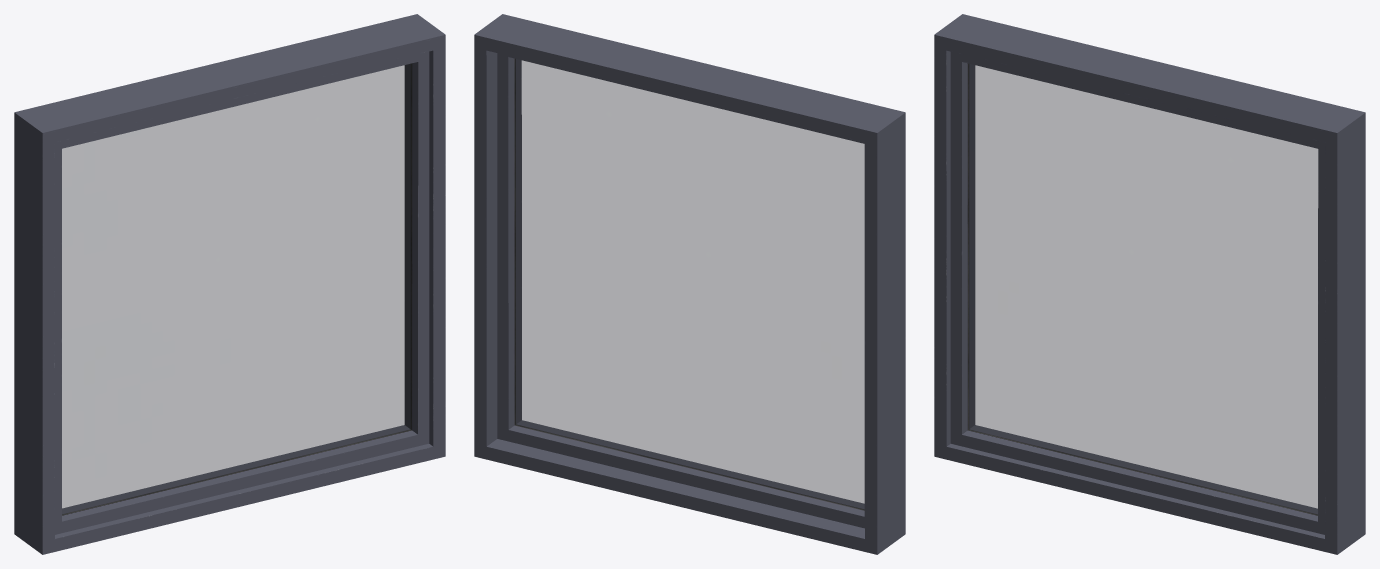
File: SM_Window_8th_01.glb
The picture shows the model from 3 angles, left to right: view 1: azimuth 30°, elevation 25°; view 2: azimuth 150°, elevation 25°; view 3: azimuth 330°, elevation 25°; orthographic projection.
Visible parts, largest first — view 1: SM_Window_8th_01; view 2: SM_Window_8th_01; view 3: SM_Window_8th_01.
Boxes of the visible parts, x1,y1,x2,y2 form: SM_Window_8th_01: (14, 14, 445, 554); SM_Window_8th_01: (474, 14, 905, 554); SM_Window_8th_01: (934, 14, 1365, 554).
Size of the model in its own units: 2 by 2 by 0.2434.
2 materials, 2 textured.
